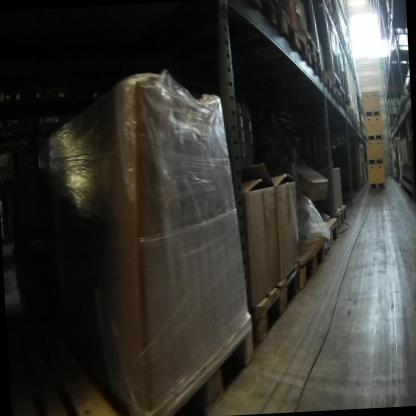pallet: (141, 310, 264, 412), (18, 361, 122, 416), (244, 263, 306, 344), (273, 8, 313, 73), (285, 229, 325, 292), (234, 0, 278, 31), (309, 215, 339, 259), (332, 202, 352, 238), (306, 50, 324, 87), (304, 27, 323, 61), (322, 69, 334, 103), (396, 98, 406, 117), (333, 85, 341, 106), (403, 91, 410, 107), (394, 112, 401, 127), (346, 104, 350, 118), (350, 105, 355, 116)
stillage: (306, 0, 340, 89), (332, 21, 344, 101), (339, 38, 349, 104)
